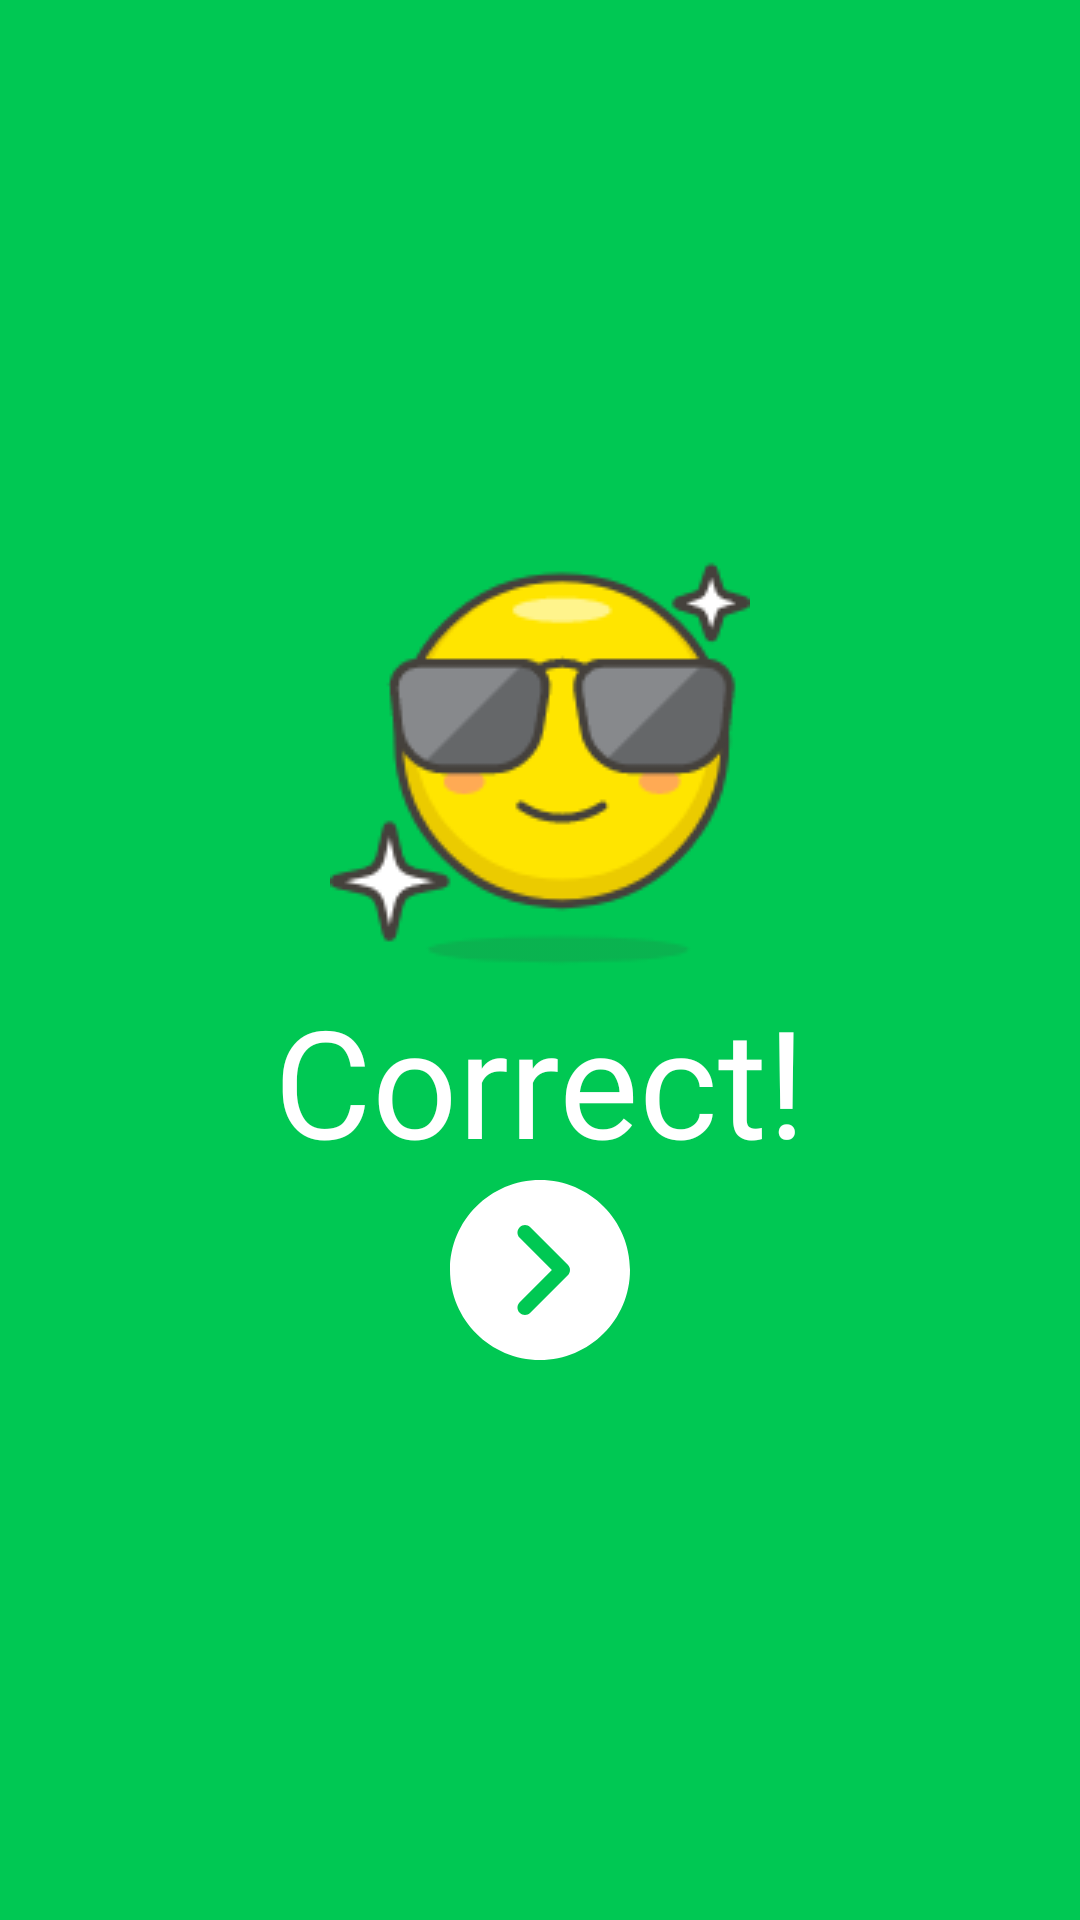

Named icons in this screenshot (1080*1920) and their centers, (x,y):
next: (540,1270)
